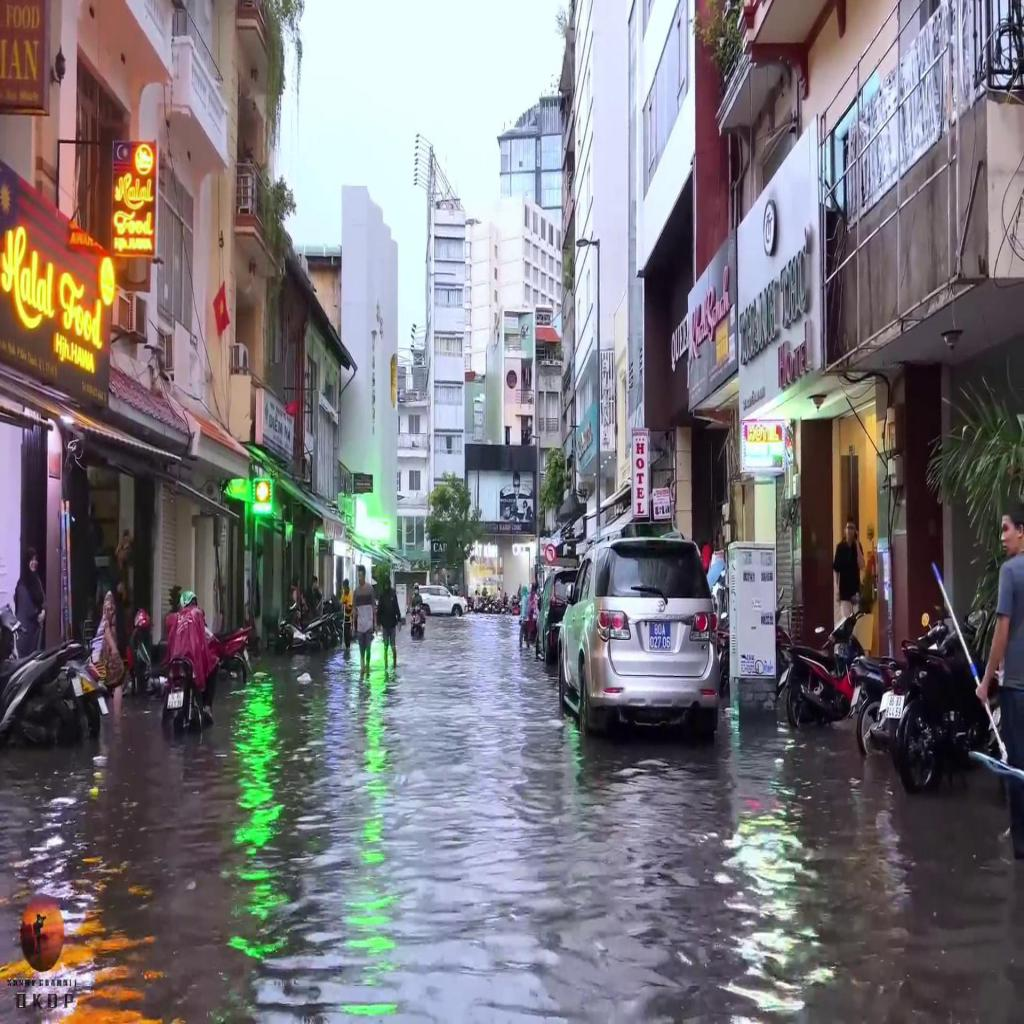cam_re_trai: (545, 542, 556, 564)
